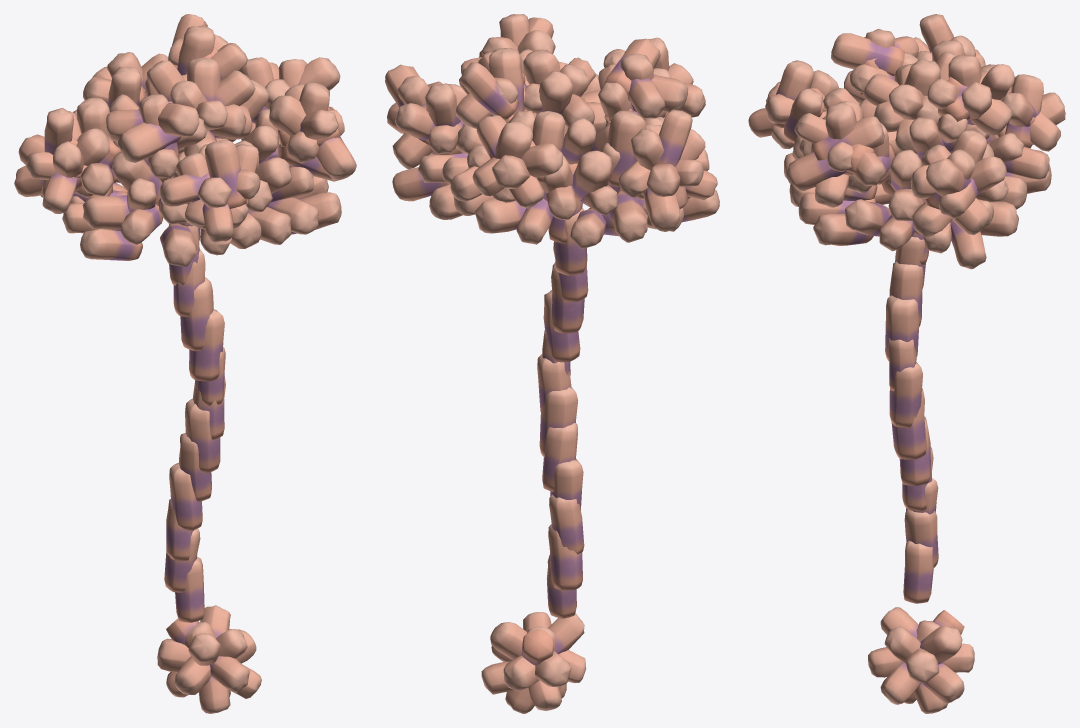
Rendered from Polyp_CellCluster_Stage3.fbx.
The picture shows the model from 3 angles, left to right: view 1: azimuth 30°, elevation 25°; view 2: azimuth 150°, elevation 25°; view 3: azimuth 270°, elevation 25°; orthographic projection. The views are drawn at different scales.
Parts seen in each view (by area): view 1: Polyp_CellCluster_Stage3; view 2: Polyp_CellCluster_Stage3; view 3: Polyp_CellCluster_Stage3.
Boxes of the visible parts, x1=… form: Polyp_CellCluster_Stage3: x1=14, y1=14, x2=356, y2=713; Polyp_CellCluster_Stage3: x1=385, y1=14, x2=719, y2=713; Polyp_CellCluster_Stage3: x1=748, y1=14, x2=1065, y2=713.
Bounding box in the file's own units: 7.72 × 15.85 × 6.93.
